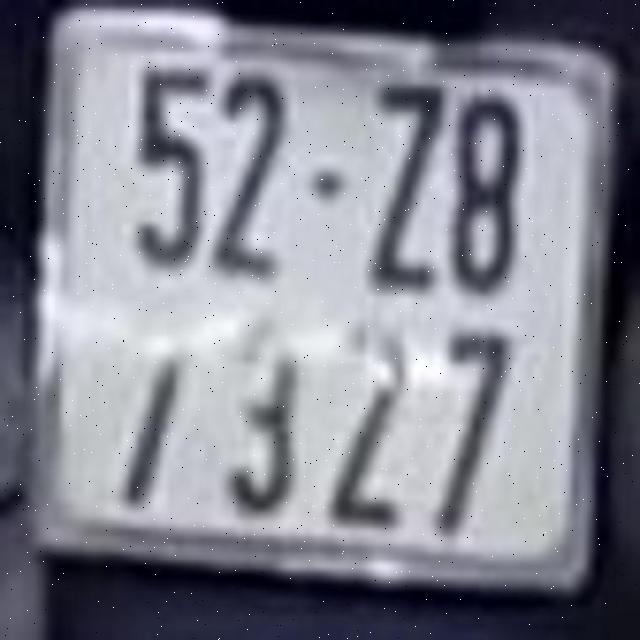2: (328, 317, 408, 529), (216, 68, 286, 279)
3: (221, 310, 299, 517)
5: (132, 61, 208, 270)
7: (433, 322, 515, 538)
8: (450, 86, 523, 296)
Z: (368, 76, 444, 295)
